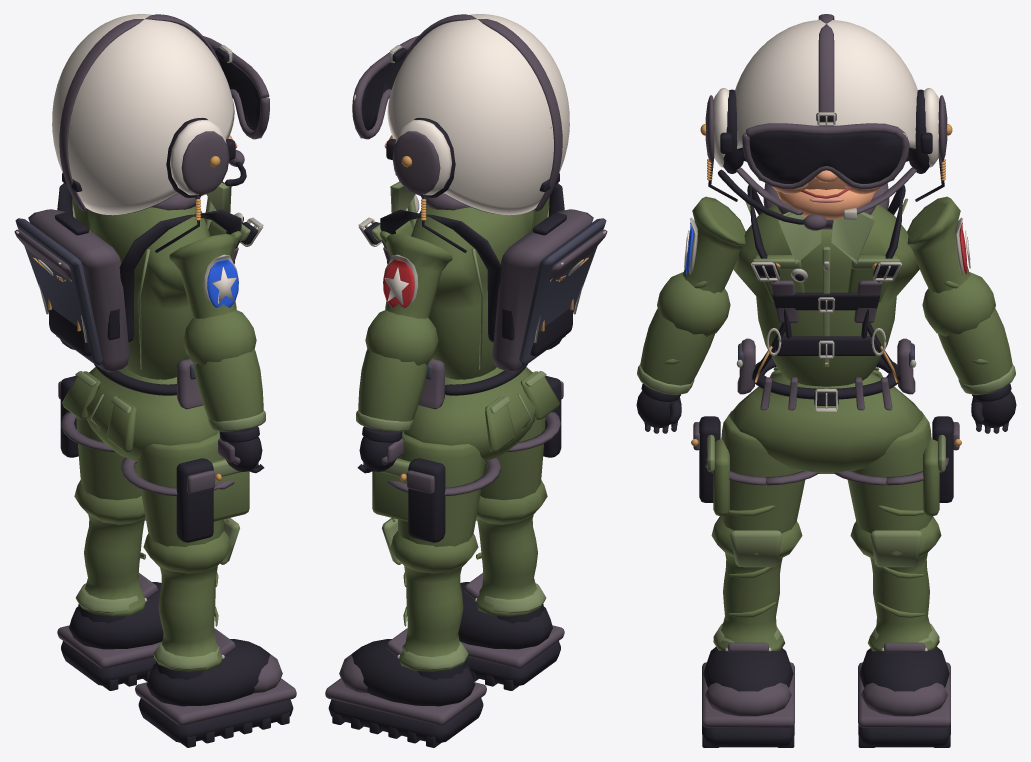
3 renders of one model, left to right at view 1: azimuth 30°, elevation 25°; view 2: azimuth 150°, elevation 25°; view 3: azimuth 270°, elevation 25°, orthographic.
Visible parts, largest first — view 1: head__geometry, torso__geometry, footR__geometry, legR__geometry, hip__geometry, shinR__geometry, foreArmR__geometry, shinL__geometry, footL__geometry, armR__geometry, legL__geometry, handR__geometry; view 2: head__geometry, torso__geometry, footL__geometry, legL__geometry, hip__geometry, shinL__geometry, foreArmL__geometry, shinR__geometry, footR__geometry, armL__geometry, legR__geometry, handL__geometry; view 3: head__geometry, torso__geometry, hip__geometry, footL__geometry, footR__geometry, legL__geometry, legR__geometry, shinL__geometry, shinR__geometry, foreArmL__geometry, foreArmR__geometry, armL__geometry (+3 smaller).
Part boxes in pixels (x1,y1,x2,y2): head__geometry: [52, 14, 269, 252]; torso__geometry: [14, 181, 263, 379]; footR__geometry: [135, 628, 296, 747]; legR__geometry: [121, 431, 258, 546]; hip__geometry: [62, 358, 218, 461]; shinR__geometry: [143, 518, 239, 671]; foreArmR__geometry: [183, 310, 265, 431]; shinL__geometry: [74, 480, 145, 616]; footL__geometry: [57, 573, 163, 690]; armR__geometry: [169, 233, 238, 318]; legL__geometry: [58, 376, 141, 500]; handR__geometry: [218, 426, 264, 473]; head__geometry: [352, 14, 569, 252]; torso__geometry: [358, 181, 607, 379]; footL__geometry: [325, 628, 486, 747]; legL__geometry: [363, 431, 500, 546]; hip__geometry: [403, 358, 559, 461]; shinL__geometry: [382, 518, 478, 671]; foreArmL__geometry: [356, 310, 438, 431]; shinR__geometry: [476, 480, 547, 616]; footR__geometry: [458, 573, 564, 690]; armL__geometry: [383, 233, 452, 318]; legR__geometry: [480, 376, 563, 500]; handL__geometry: [357, 426, 403, 473]; head__geometry: [700, 14, 952, 230]; torso__geometry: [733, 183, 919, 386]; hip__geometry: [729, 338, 923, 473]; footL__geometry: [858, 642, 950, 747]; footR__geometry: [702, 642, 794, 747]; legL__geometry: [833, 410, 961, 533]; legR__geometry: [691, 410, 819, 533]; shinL__geometry: [850, 516, 941, 651]; shinR__geometry: [711, 516, 802, 651]; foreArmL__geometry: [922, 272, 1015, 395]; foreArmR__geometry: [637, 272, 730, 395]; armL__geometry: [907, 196, 970, 293].
Size of the model in its own units: 0.4243 by 1.35 by 0.6815.
